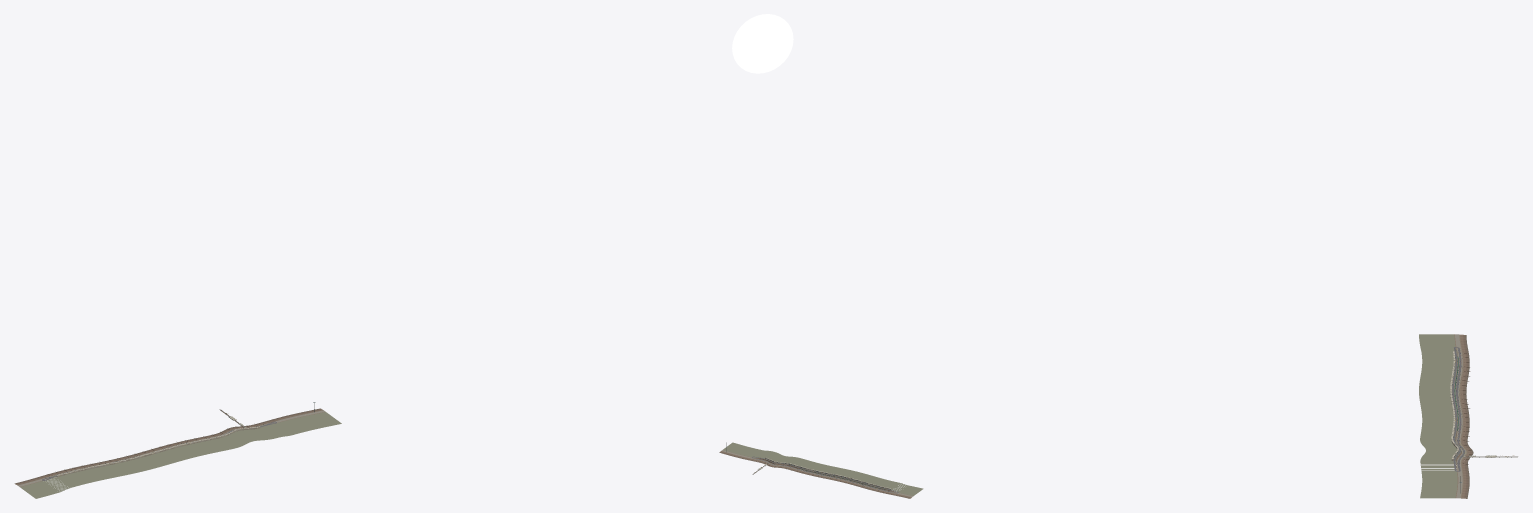
The model's file is brighton.glb.
3 renders of one model, left to right at view 1: azimuth 30°, elevation 25°; view 2: azimuth 150°, elevation 25°; view 3: azimuth 270°, elevation 25°, orthographic. The views are drawn at different scales.
Visible parts, largest first — view 1: no part large enough to name; view 2: Sun, Land_027; view 3: Land_027, Land_045, Land_009.
Boxes of the visible parts, bbox=[...] form: Sun: bbox=[732, 14, 793, 73]; Land_027: bbox=[719, 444, 769, 460]; Land_027: bbox=[1421, 464, 1469, 498]; Land_045: bbox=[1421, 464, 1469, 498]; Land_009: bbox=[1420, 461, 1469, 498].
Size of what is drawn, in the model's own units: 4458 by 4529 by 4145.
